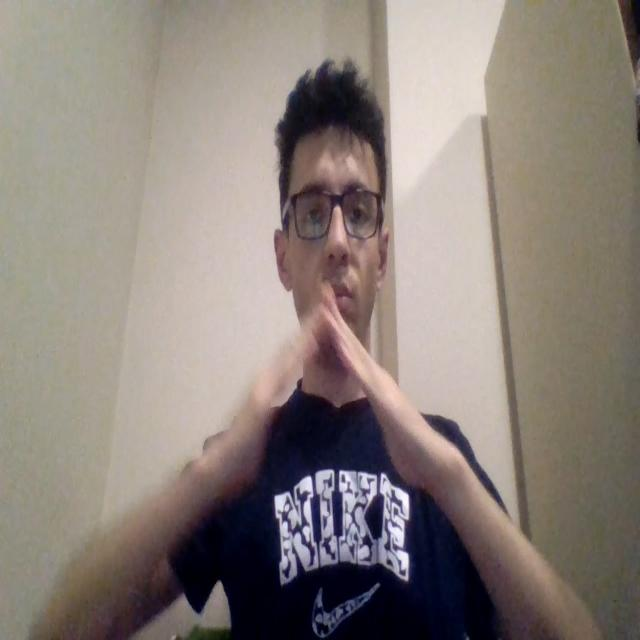house: (210, 285, 442, 495)
